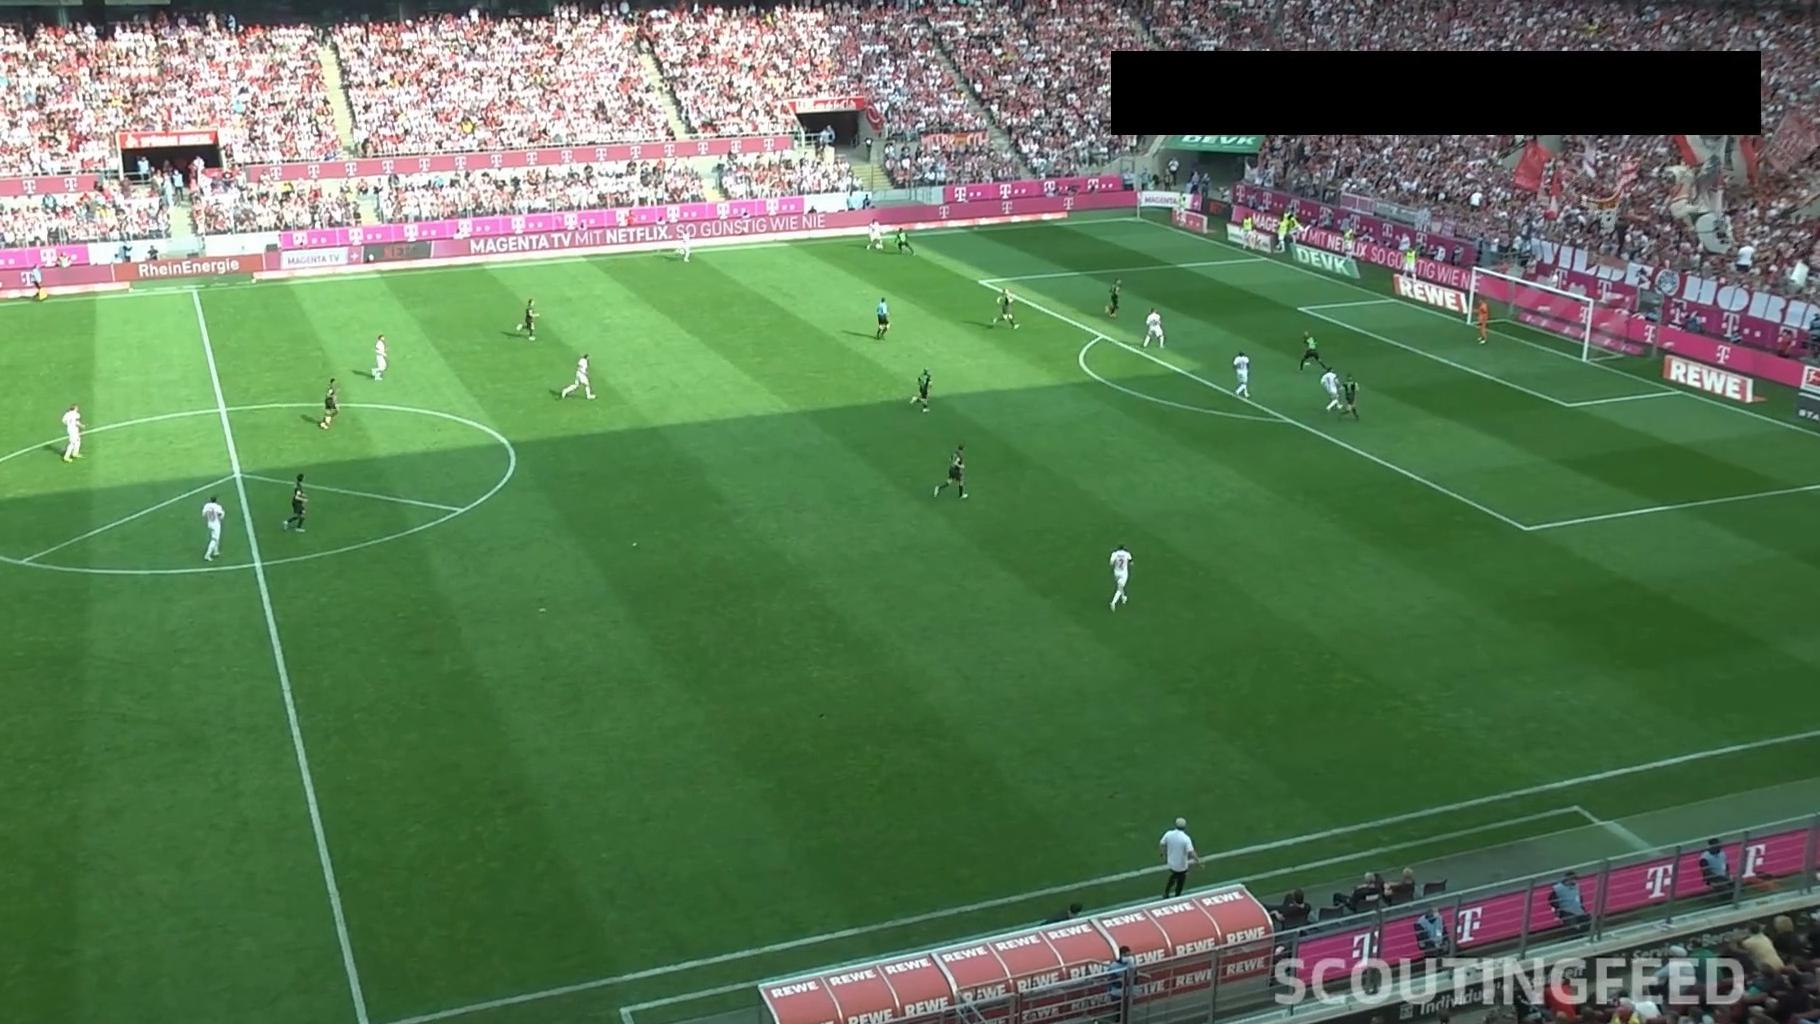ball: (875, 243, 882, 250)
